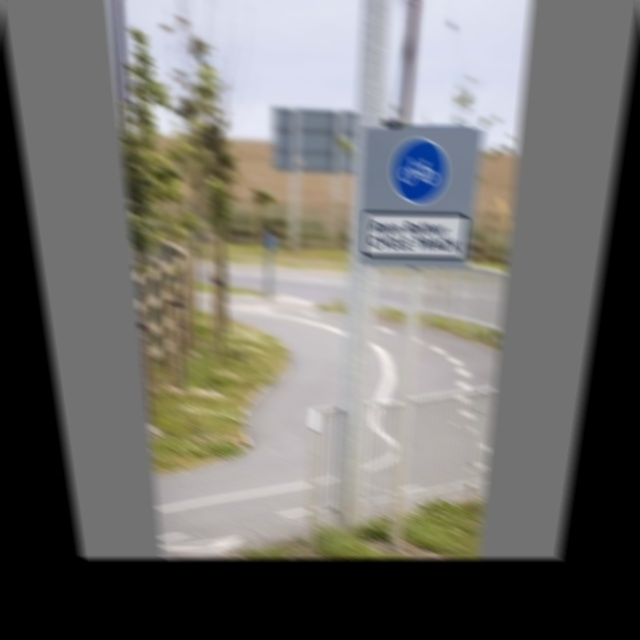Compulsory_Cycle_Track: (385, 134, 453, 209)
